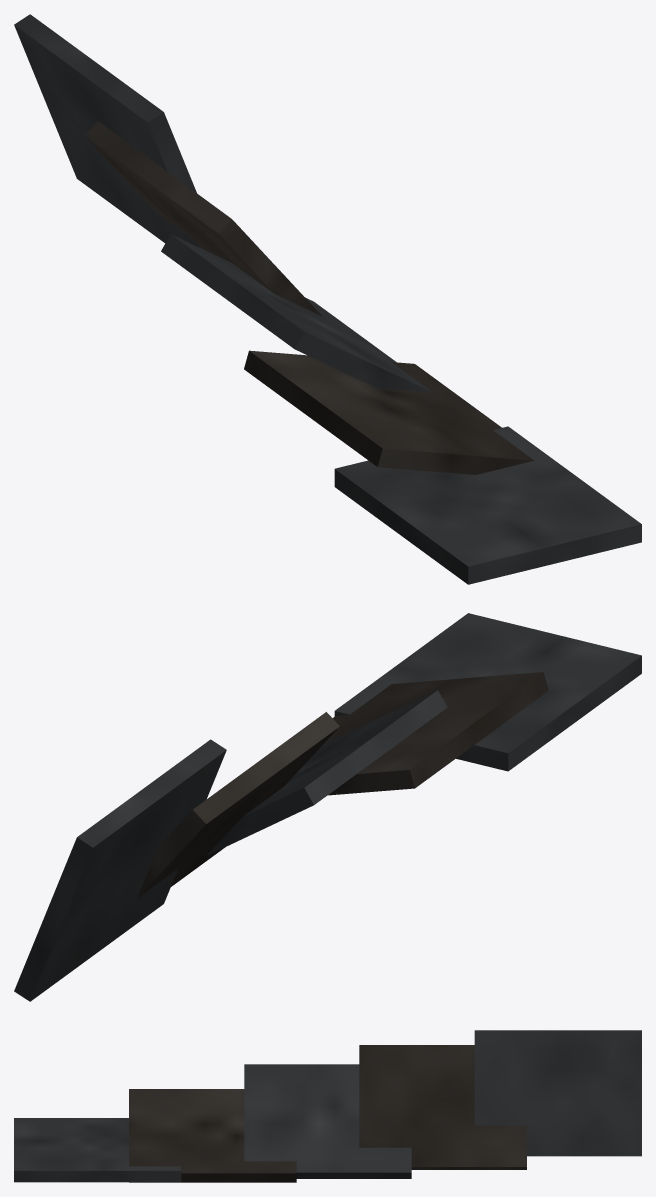
3 views of the same model, one above another, from view 1: azimuth 30°, elevation 25°; view 2: azimuth 150°, elevation 25°; view 3: azimuth 270°, elevation 25° (orthographic). The views are drawn at different scales.
Parts seen in each view (by area): view 1: k7_shrapnel_a_0, k7_shrapnel_a_1; view 2: k7_shrapnel_a_0, k7_shrapnel_a_1; view 3: k7_shrapnel_a_0, k7_shrapnel_a_1.
Boxes of the visible parts, box(x1,y1,x2,y2) form: k7_shrapnel_a_0: box(14, 14, 641, 584); k7_shrapnel_a_1: box(85, 121, 533, 474); k7_shrapnel_a_0: box(14, 613, 641, 1001); k7_shrapnel_a_1: box(137, 672, 548, 898); k7_shrapnel_a_0: box(14, 1030, 641, 1182); k7_shrapnel_a_1: box(129, 1045, 526, 1182).
Size of the model in its own units: 0.12 by 0.1269 by 0.6.
Materials: 2 (2 with a texture image).
